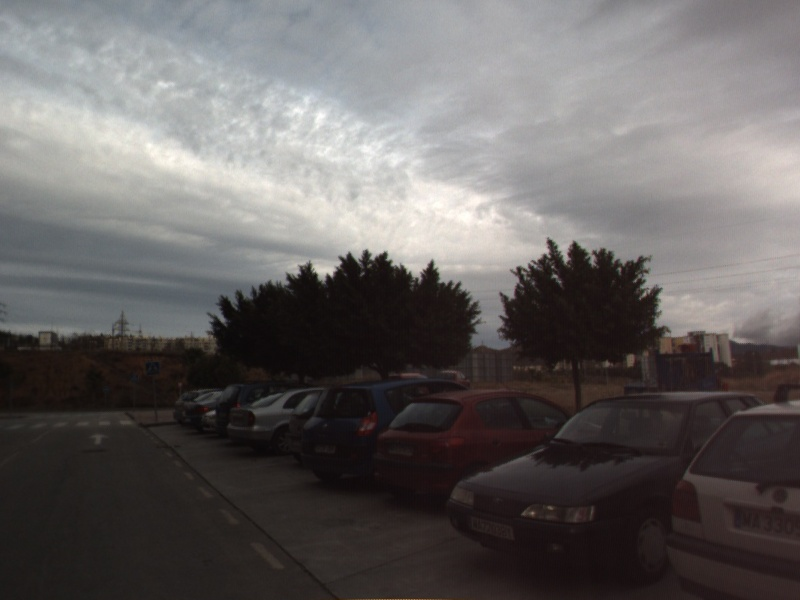STRAIGHT: (87, 431, 112, 446)
